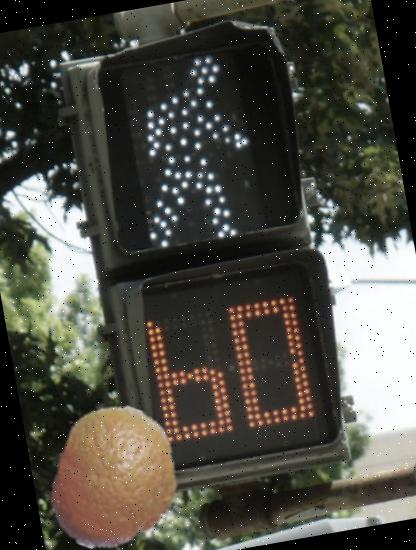Mandarine: (28, 393, 198, 550)
